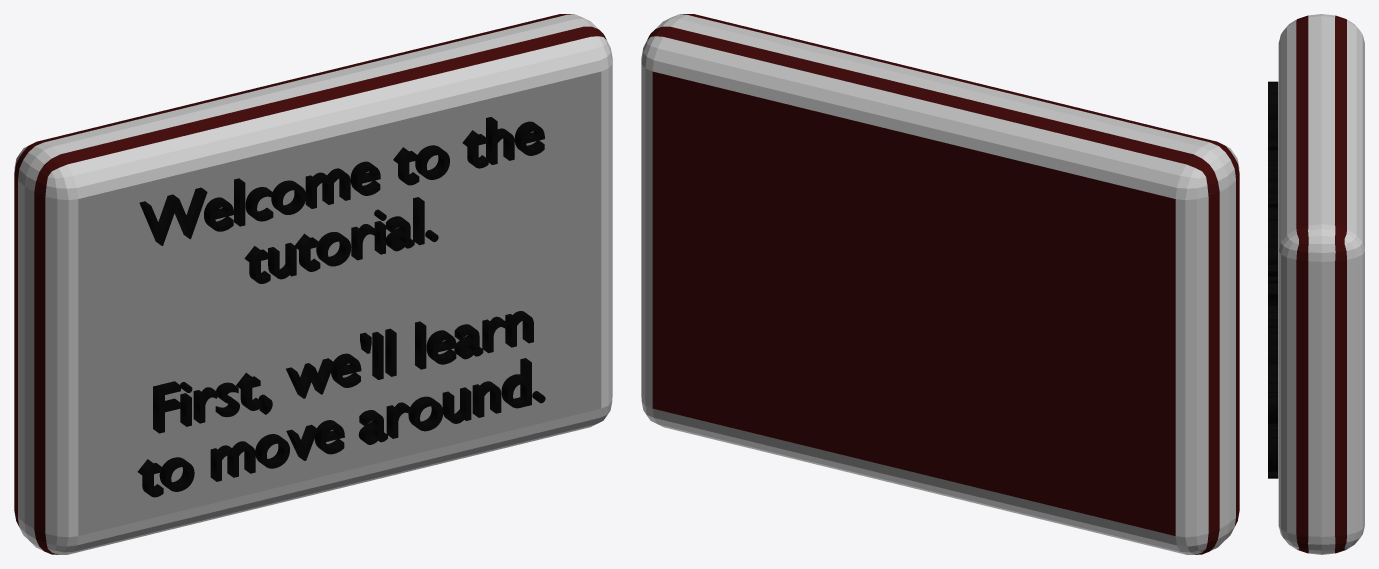
The model's file is box_welcome.obj.
The picture shows the model from 3 angles, left to right: view 1: azimuth 30°, elevation 25°; view 2: azimuth 150°, elevation 25°; view 3: azimuth 270°, elevation 25°; orthographic projection. The views are drawn at different scales.
Visible parts, largest first — view 1: box_welcome; view 2: box_welcome; view 3: box_welcome.
Part boxes in pixels (x1,y1,x2,y2): box_welcome: [14, 14, 612, 554]; box_welcome: [641, 14, 1239, 554]; box_welcome: [1268, 14, 1364, 554].
Bounding box in the file's own units: 0.2981 × 0.1988 × 0.0531.
